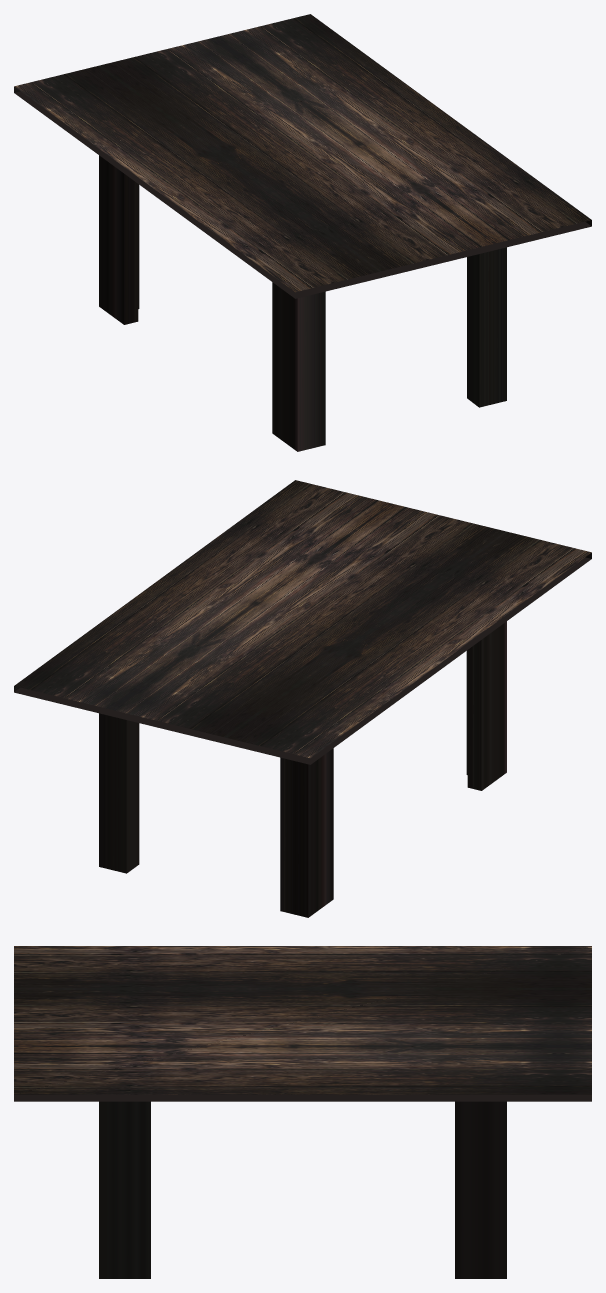
Rendered from Mesa madeirada (1).glb.
3 views of the same model, one above another, from view 1: azimuth 30°, elevation 25°; view 2: azimuth 150°, elevation 25°; view 3: azimuth 270°, elevation 25° (orthographic). The views are drawn at different scales.
Visible parts, largest first — view 1: Grade; view 2: Grade; view 3: Grade.
Part boxes in pixels (bbox=[...]): Grade: bbox=[14, 14, 591, 451]; Grade: bbox=[14, 480, 591, 917]; Grade: bbox=[14, 946, 591, 1278].
Size of the model in its own units: 16.99 by 10.97 by 27.92.
Materials: 3 (3 with a texture image).
